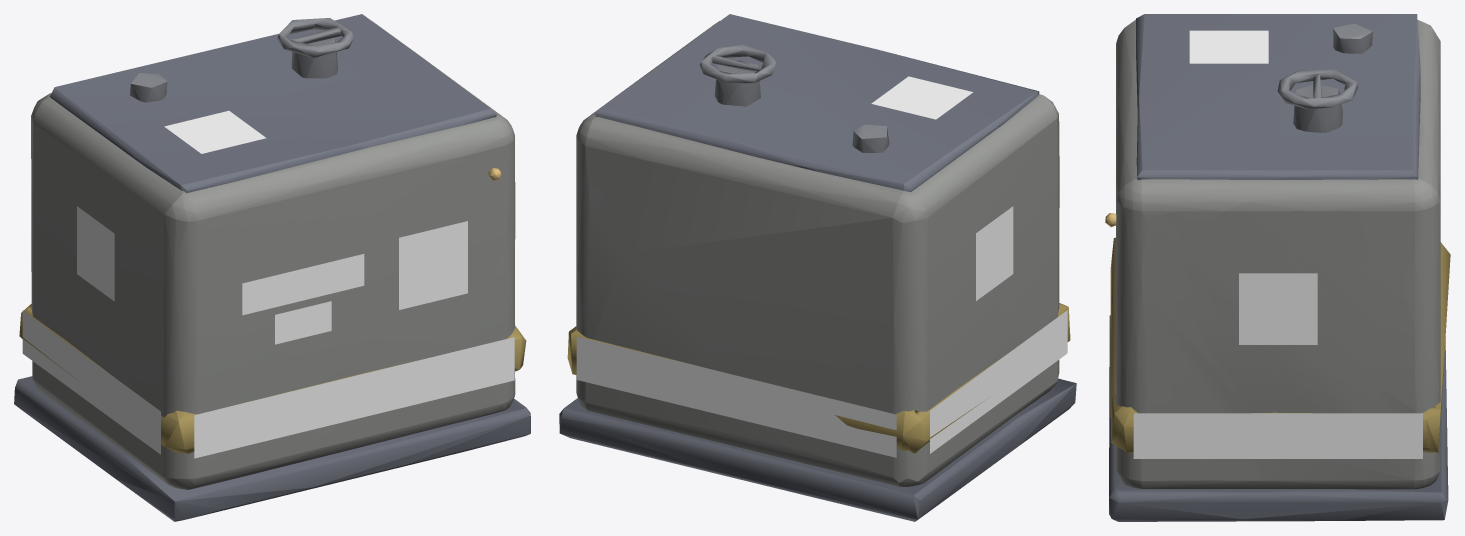
Rendered from danger.glb.
The picture shows the model from 3 angles, left to right: view 1: azimuth 30°, elevation 25°; view 2: azimuth 150°, elevation 25°; view 3: azimuth 270°, elevation 25°; orthographic projection. The views are drawn at different scales.
Parts seen in each view (by area): view 1: danger, danger_decal; view 2: danger, danger_decal; view 3: danger, danger_decal.
Boxes of the visible parts, box(x1,y1,x2,y2) form: danger: box(14, 14, 530, 521); danger_decal: box(22, 110, 514, 458); danger: box(559, 14, 1076, 521); danger_decal: box(576, 76, 1067, 457); danger: box(1109, 14, 1450, 521); danger_decal: box(1133, 30, 1422, 458).
Size of the model in its own units: 0.8932 by 0.8517 by 0.7018.
